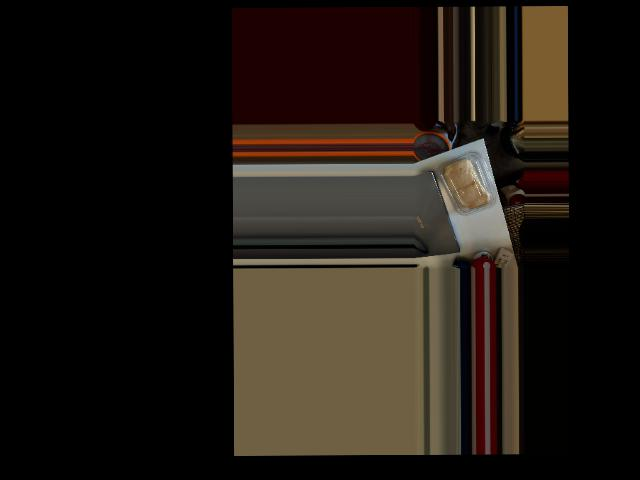cheese: (437, 146, 496, 217)
